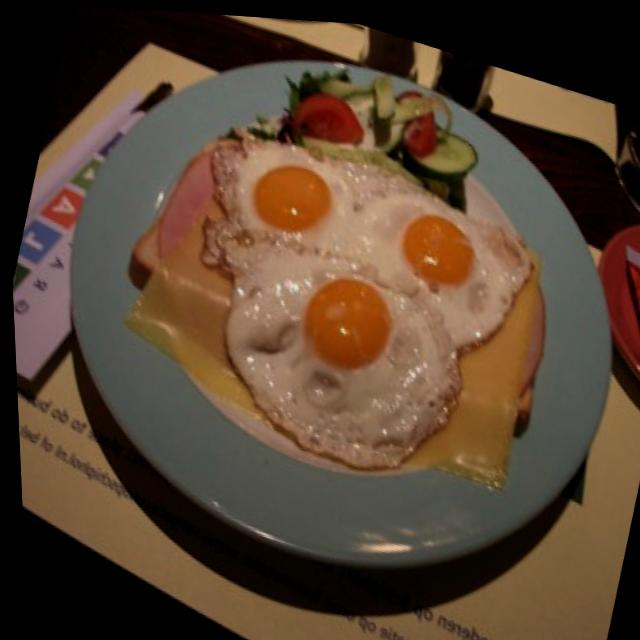鸡蛋料理: (227, 233, 458, 434), (177, 96, 372, 273), (358, 168, 523, 312)
